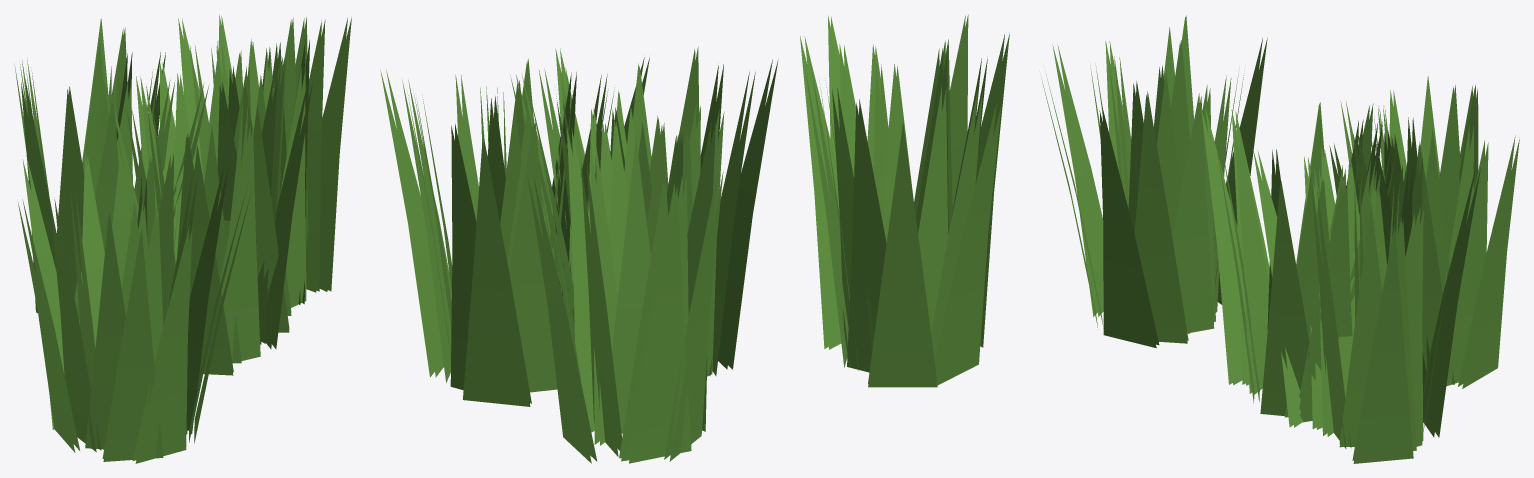
File: grass_patch.glb
The picture shows the model from 3 angles, left to right: view 1: azimuth 30°, elevation 25°; view 2: azimuth 150°, elevation 25°; view 3: azimuth 270°, elevation 25°; orthographic projection. The views are drawn at different scales.
Parts seen in each view (by area): view 1: Grass_Patch_Blades; view 2: Grass_Patch_Blades; view 3: Grass_Patch_Blades.
Part boxes in pixels (bbox=[...]): Grass_Patch_Blades: bbox=[14, 14, 351, 463]; Grass_Patch_Blades: bbox=[380, 14, 1009, 463]; Grass_Patch_Blades: bbox=[1041, 15, 1519, 463].
Size of the model in its own units: 0.7505 by 0.4117 by 0.7055.
